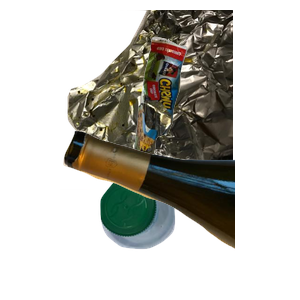glass: (60, 128, 300, 300)
metal: (60, 10, 300, 190)
plastic: (98, 176, 266, 300)
trash: (130, 34, 300, 203)
